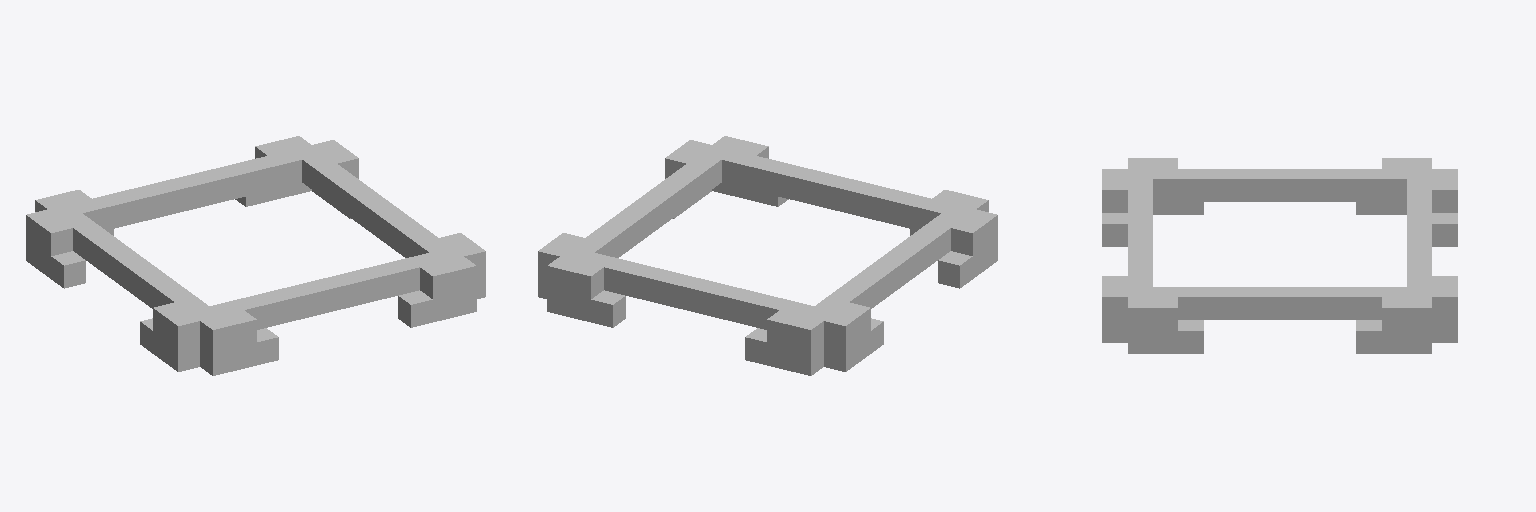
The model's file is surface_glass.obj.
3 renders of one model, left to right at view 1: azimuth 30°, elevation 25°; view 2: azimuth 150°, elevation 25°; view 3: azimuth 270°, elevation 25°, orthographic.
Visible parts, largest first — view 1: surface_glass; view 2: surface_glass; view 3: surface_glass.
Part boxes in pixels (x1,y1,x2,y2): surface_glass: (26,136,485,375); surface_glass: (538,136,997,375); surface_glass: (1102,158,1457,353).
Bounding box in the file's own units: 14 × 2 × 14.